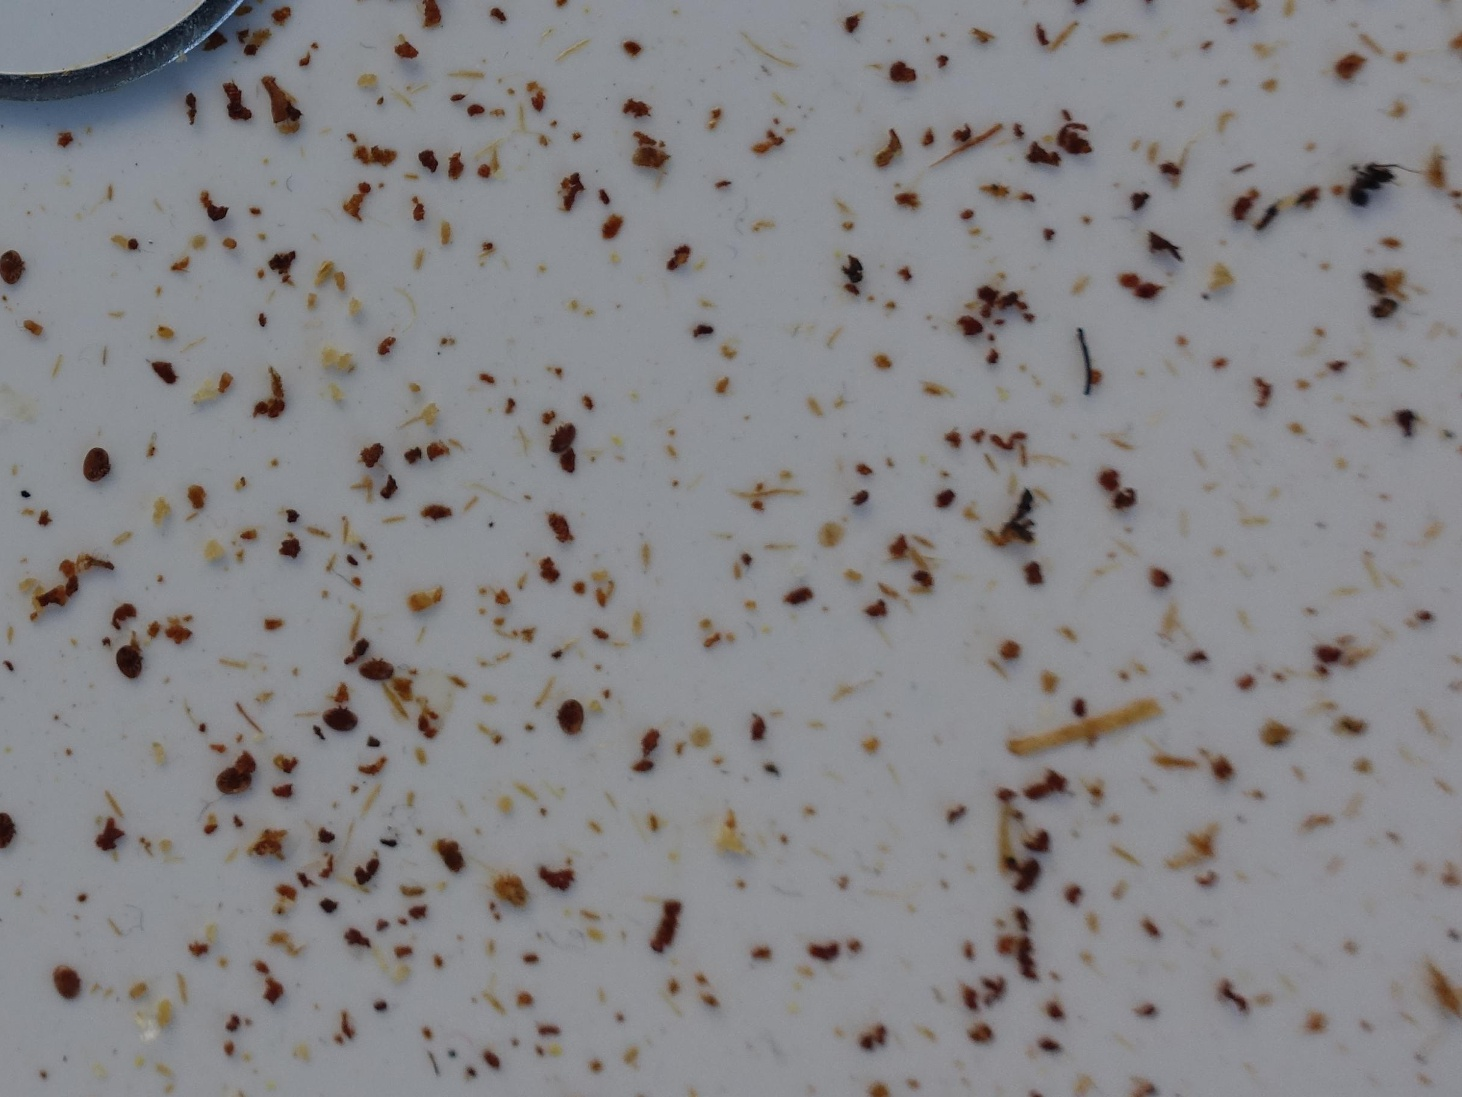Varroa: (83, 451, 109, 477), (559, 699, 583, 724), (363, 661, 387, 686), (60, 970, 83, 994), (548, 433, 571, 457), (224, 773, 247, 795), (118, 642, 139, 664), (331, 712, 353, 734)
